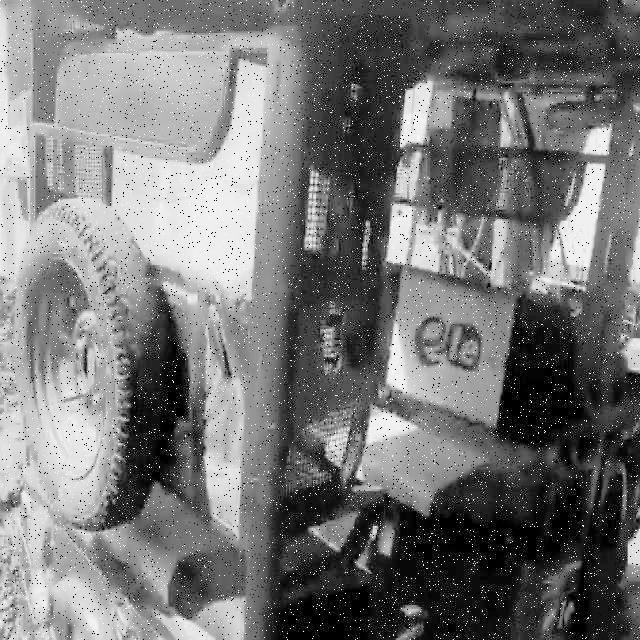Toto: (25, 1, 640, 640)
